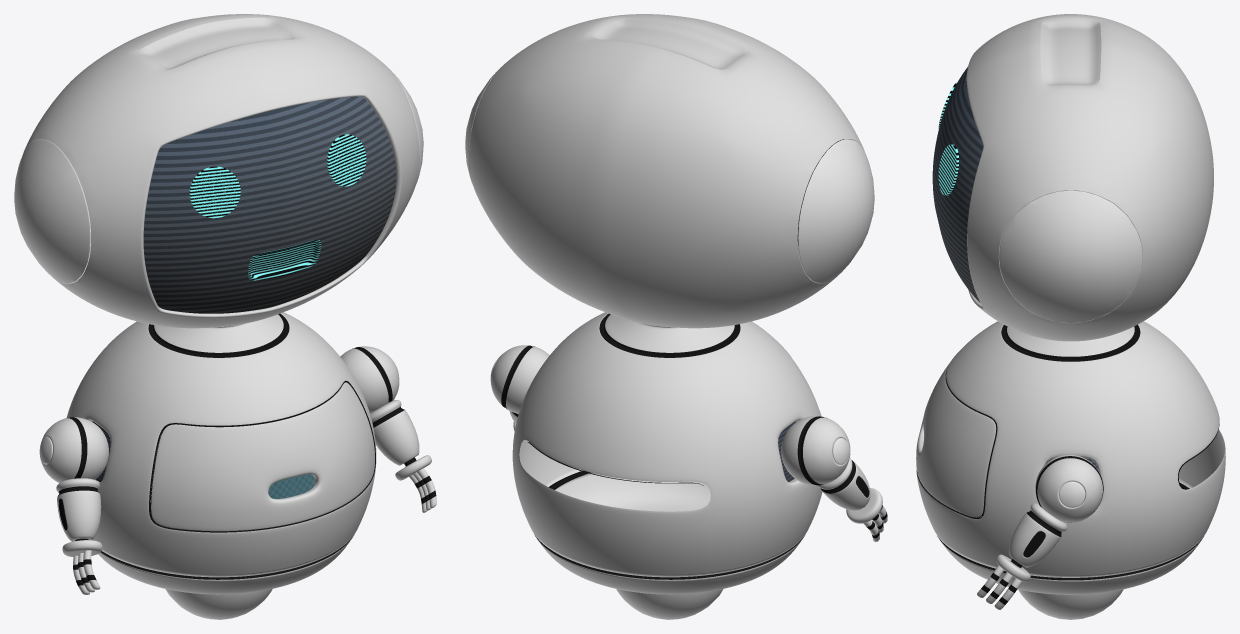
File: robot.glb
The picture shows the model from 3 angles, left to right: view 1: azimuth 30°, elevation 25°; view 2: azimuth 150°, elevation 25°; view 3: azimuth 270°, elevation 25°; orthographic projection.
Parts seen in each view (by area): view 1: Cube, Cube.011, Cube.013, Cube.004, Slice, Torus.001, Cube.010, Cube.006, Cube.012, Cube.014, Cube.007; view 2: Cube, Cube.011, Slice, Cube.010, Torus.001, Cube.012; view 3: Cube.011, Cube, Slice, Cube.004, Cube.013, Torus.001, Cube.010, Cube.012, Cube.006.
Boxes of the visible parts, left/top/right/bottom form: Cube: left=24, top=14, right=419, bottom=328; Cube.011: left=66, top=312, right=376, bottom=594; Cube.013: left=143, top=96, right=396, bottom=313; Cube.004: left=150, top=382, right=374, bottom=531; Slice: left=14, top=69, right=423, bottom=283; Torus.001: left=56, top=400, right=436, bottom=594; Cube.010: left=39, top=346, right=399, bottom=482; Cube.006: left=189, top=134, right=366, bottom=218; Cube.012: left=165, top=589, right=272, bottom=619; Cube.014: left=248, top=240, right=321, bottom=280; Cube.007: left=92, top=421, right=314, bottom=498; Cube: left=469, top=14, right=864, bottom=328; Cube.011: left=512, top=312, right=822, bottom=594; Slice: left=465, top=67, right=874, bottom=283; Cube.010: left=490, top=345, right=850, bottom=485; Torus.001: left=509, top=411, right=887, bottom=541; Cube.012: left=616, top=589, right=723, bottom=619; Cube.011: left=916, top=321, right=1225, bottom=594; Cube: left=966, top=14, right=1213, bottom=341; Slice: left=999, top=190, right=1142, bottom=323; Cube.004: left=916, top=363, right=996, bottom=517; Cube.013: left=932, top=67, right=983, bottom=302; Torus.001: left=977, top=503, right=1067, bottom=609; Cube.010: left=1035, top=454, right=1103, bottom=522; Cube.012: left=1018, top=589, right=1123, bottom=619; Cube.006: left=938, top=82, right=958, bottom=195.
Bounding box in the file's own units: 1.49 × 2.14 × 1.05.
Materials: 7 (4 with a texture image).
